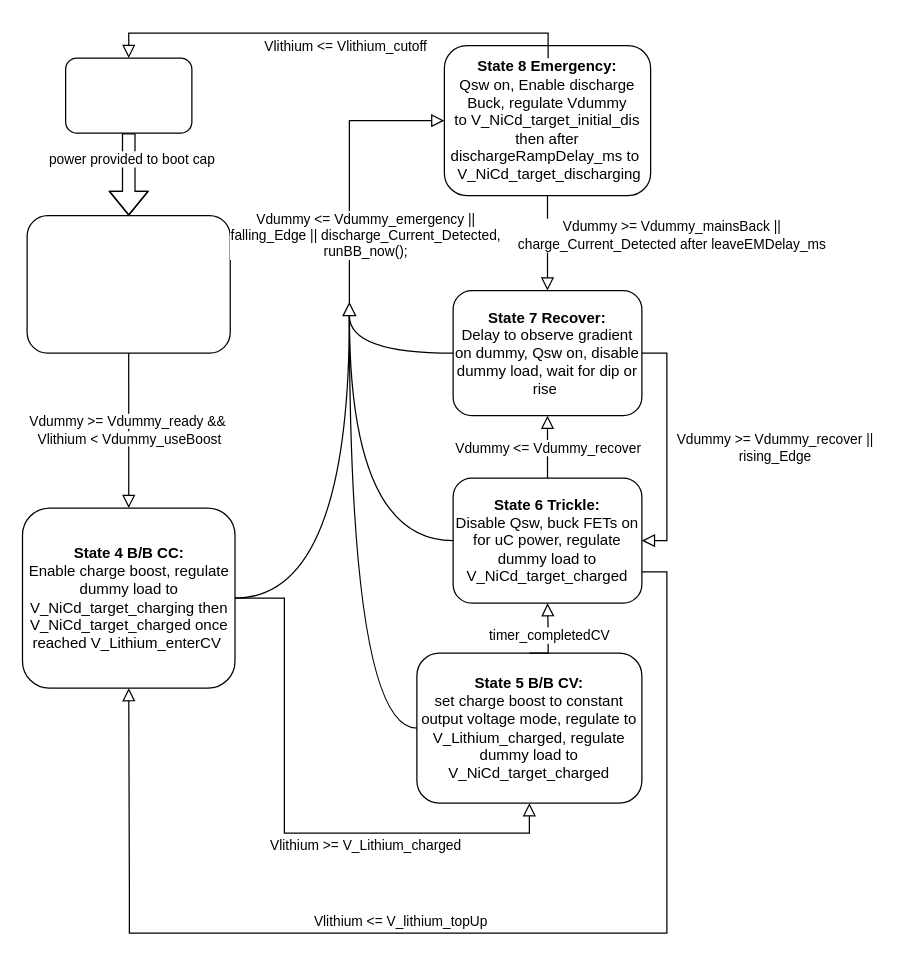
The diagram is 898 pixels wide and 968 high, and some of its shapes have lost their labels. The centre of each missing label's shape, as x and y in pixels:
State 1 Boot: Enable dummy load, regulate to V_NiCd_target_charging: pixel 128 283
State 9 Off: Everything off, uC dies: pixel 128 95
